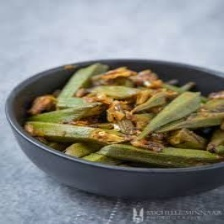sabzi: (17, 60, 224, 167)
